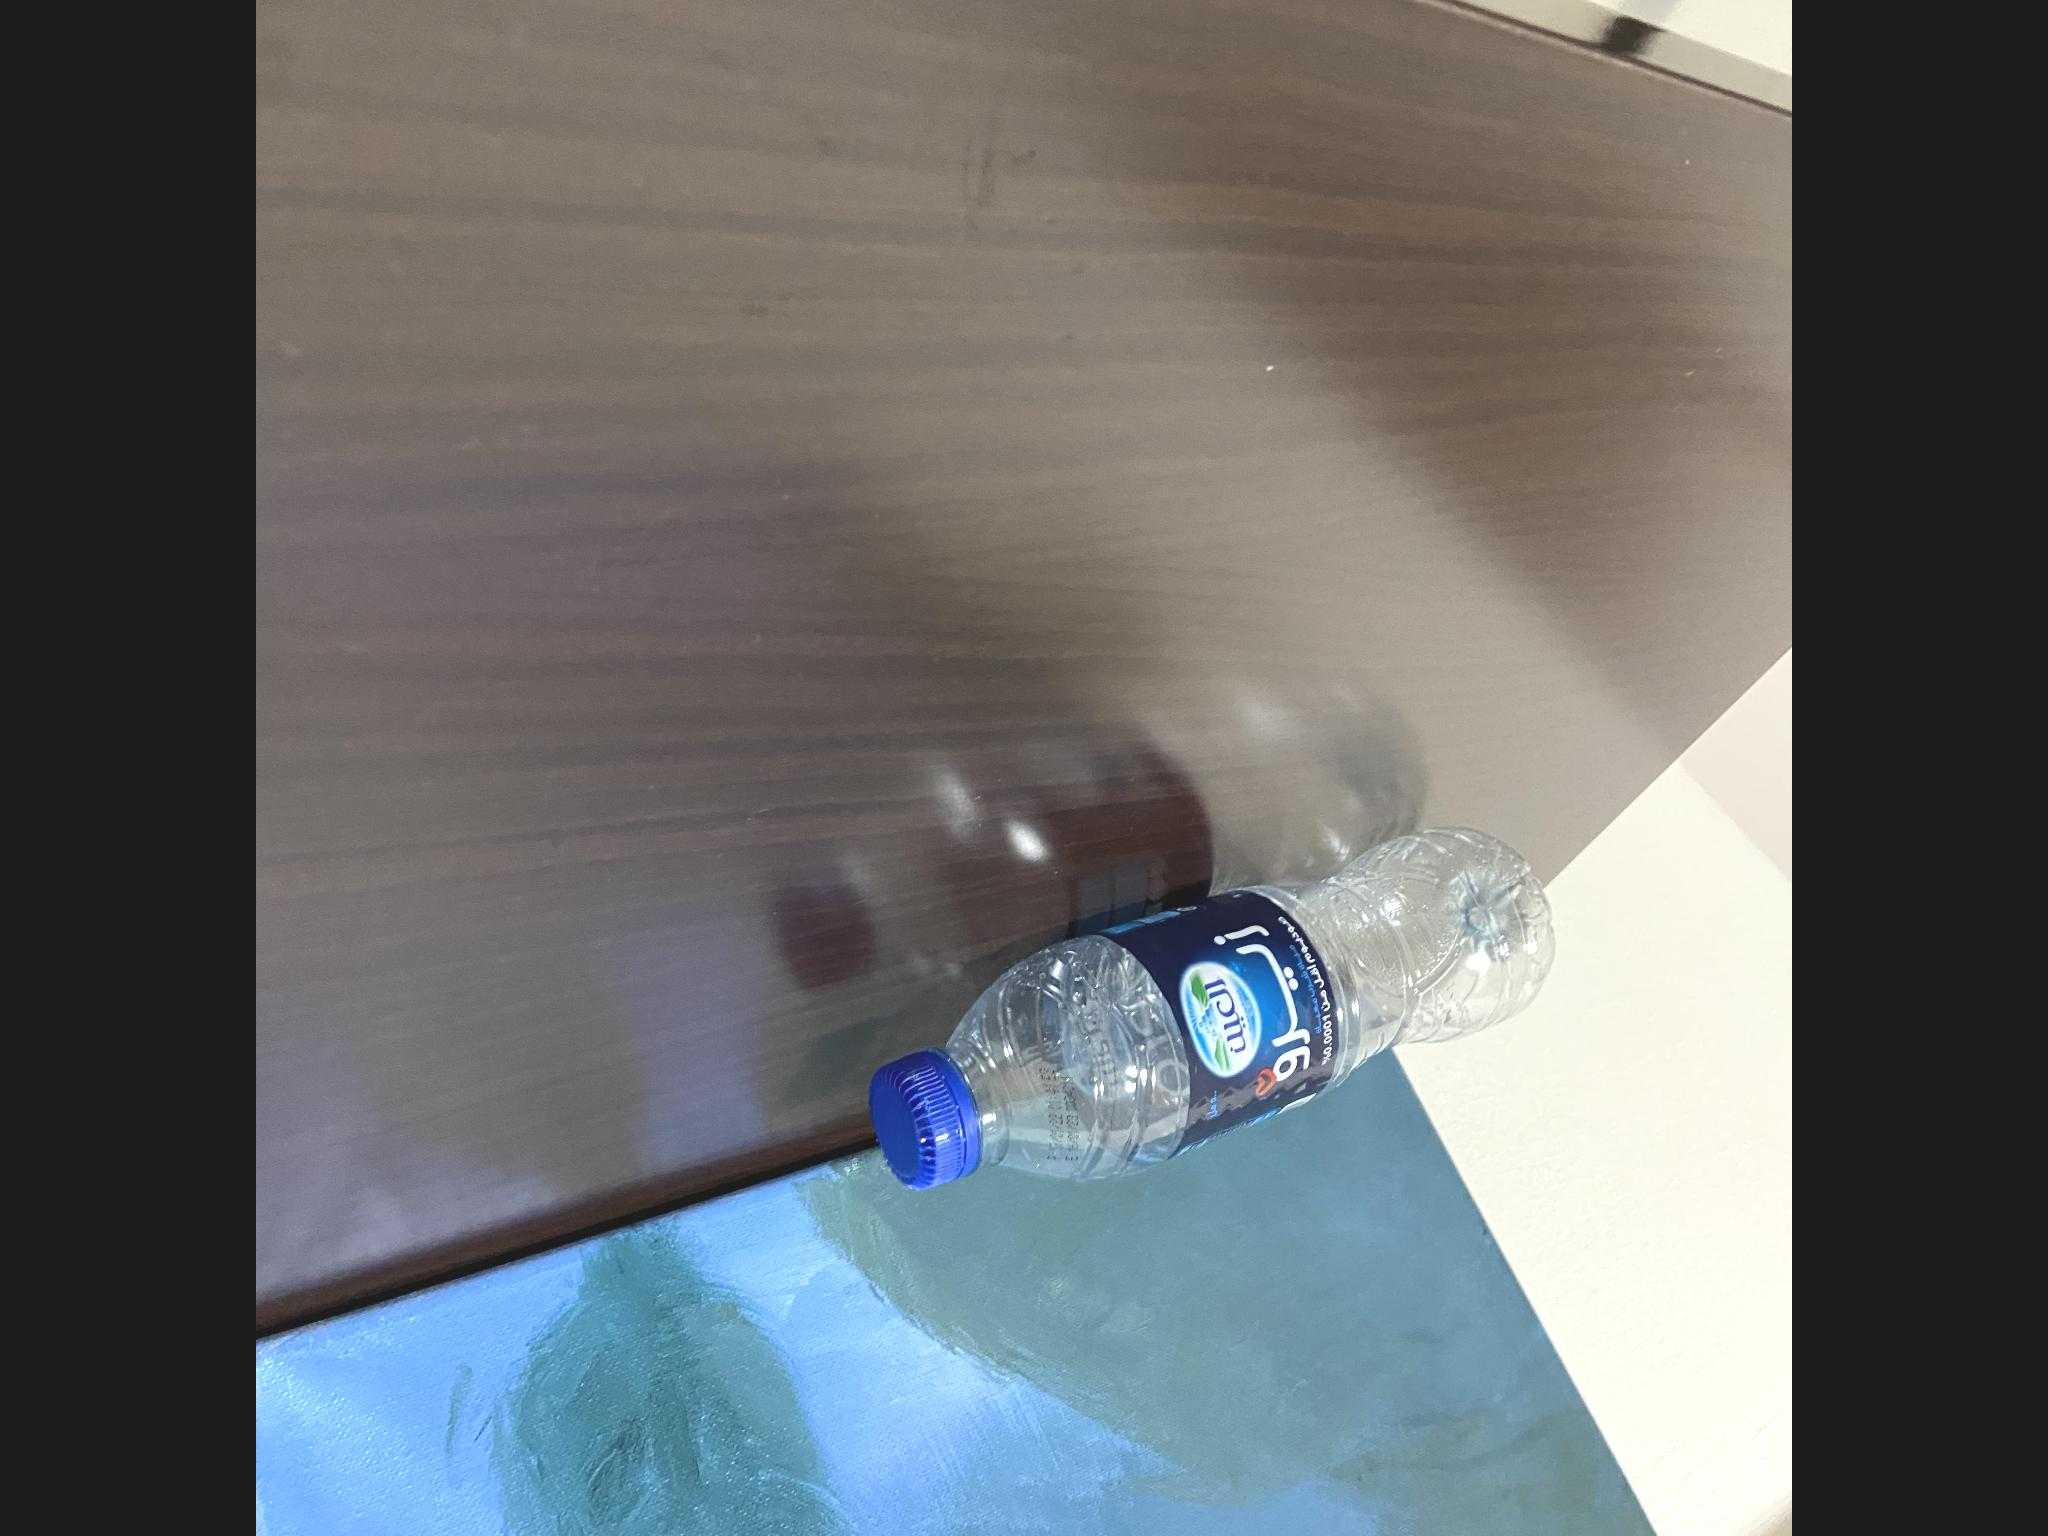bottle: (864, 812, 1556, 1199)
